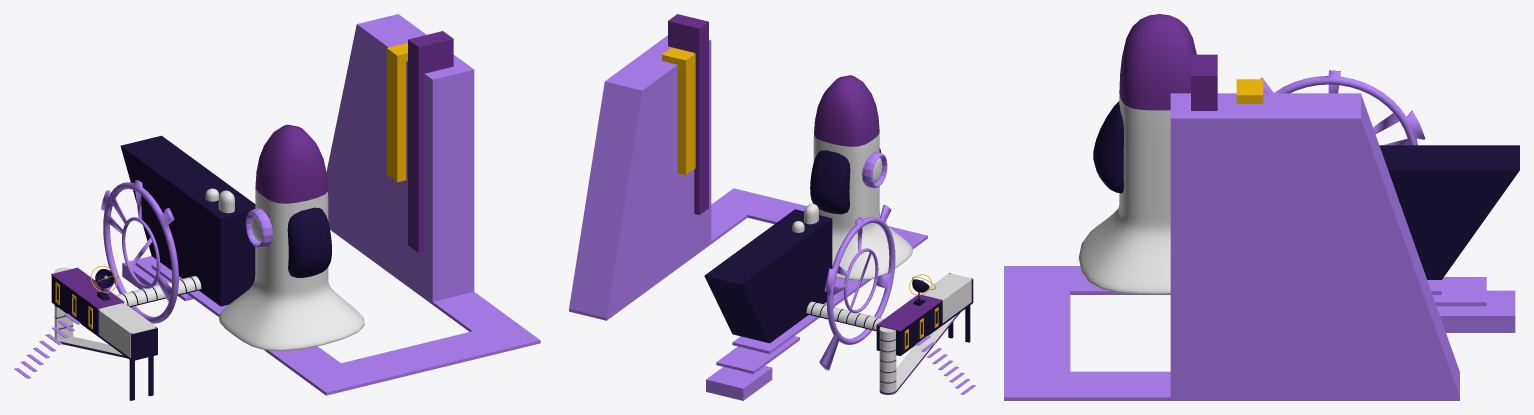
File: laboratory.fbx
The picture shows the model from 3 angles, left to right: view 1: azimuth 30°, elevation 25°; view 2: azimuth 150°, elevation 25°; view 3: azimuth 270°, elevation 25°; orthographic projection. The views are drawn at different scales.
Visible parts, largest first — view 1: stair003, Cube.013, Cube.011, Cube.017, Torus.001, Cube.018, Cube.015, Cube, Cube.012, road.001, road, Cube.008 (+6 smaller); view 2: stair003, Cube.011, Cube.013, Cube.017, Torus.001, Cube.018, Cube.016, road.001, stair.001, Cube, stair002, Cube.012 (+6 smaller); view 3: stair003, Cube.013, Cube.011, stair.001, Torus.001, Cube.015, Cube.017, stair002, Cube.018.
Boxes of the visible parts, x1=… form: stair003: x1=151, y1=14, x2=540, y2=395; Cube.013: x1=218, y1=124, x2=364, y2=351; Cube.011: x1=120, y1=135, x2=255, y2=306; Cube.017: x1=408, y1=31, x2=453, y2=252; Torus.001: x1=101, y1=180, x2=178, y2=323; Cube.018: x1=386, y1=43, x2=407, y2=182; Cube.015: x1=287, y1=207, x2=331, y2=277; Cube: x1=51, y1=275, x2=157, y2=360; Cube.012: x1=51, y1=267, x2=124, y2=308; road.001: x1=54, y1=267, x2=127, y2=358; road: x1=116, y1=276, x2=201, y2=307; Cube.008: x1=97, y1=302, x2=157, y2=334; stair003: x1=569, y1=35, x2=927, y2=353; Cube.011: x1=704, y1=209, x2=832, y2=343; Cube.013: x1=813, y1=75, x2=912, y2=280; Cube.017: x1=668, y1=14, x2=708, y2=215; Torus.001: x1=819, y1=205, x2=895, y2=370; Cube.018: x1=662, y1=47, x2=695, y2=175; Cube.016: x1=810, y1=150, x2=850, y2=214; road.001: x1=879, y1=312, x2=960, y2=394; stair.001: x1=706, y1=366, x2=772, y2=400; Cube: x1=876, y1=279, x2=973, y2=355; stair002: x1=716, y1=336, x2=799, y2=373; Cube.012: x1=876, y1=294, x2=942, y2=331; stair003: x1=1004, y1=93, x2=1459, y2=400; Cube.013: x1=1078, y1=14, x2=1196, y2=294; Cube.011: x1=1379, y1=145, x2=1519, y2=279; stair.001: x1=1436, y1=290, x2=1515, y2=332; Torus.001: x1=1260, y1=70, x2=1425, y2=145; Cube.015: x1=1093, y1=101, x2=1123, y2=193; Cube.017: x1=1191, y1=54, x2=1217, y2=110; stair002: x1=1432, y1=277, x2=1486, y2=306; Cube.018: x1=1236, y1=79, x2=1263, y2=103.
Size of the model in its own units: 11795 by 8182 by 10771.
